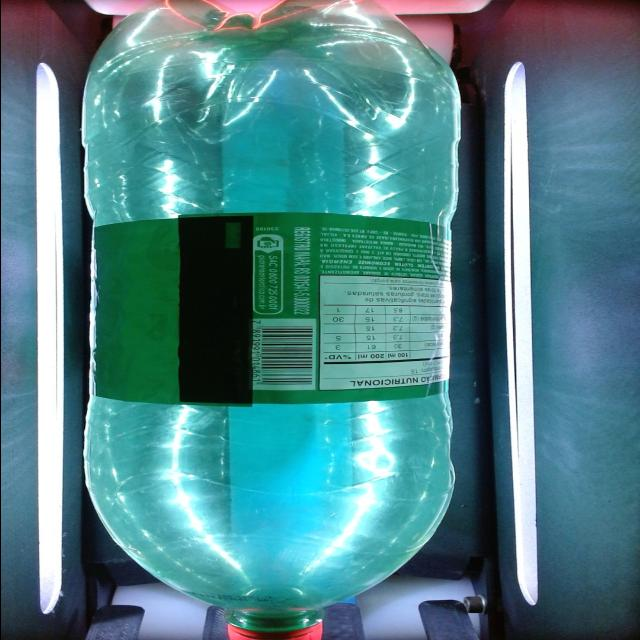bottle: (82, 0, 458, 640)
